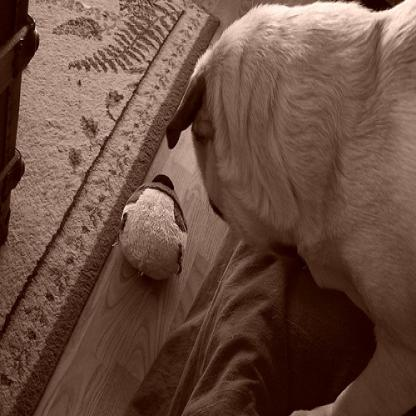dog: (165, 0, 414, 414)
